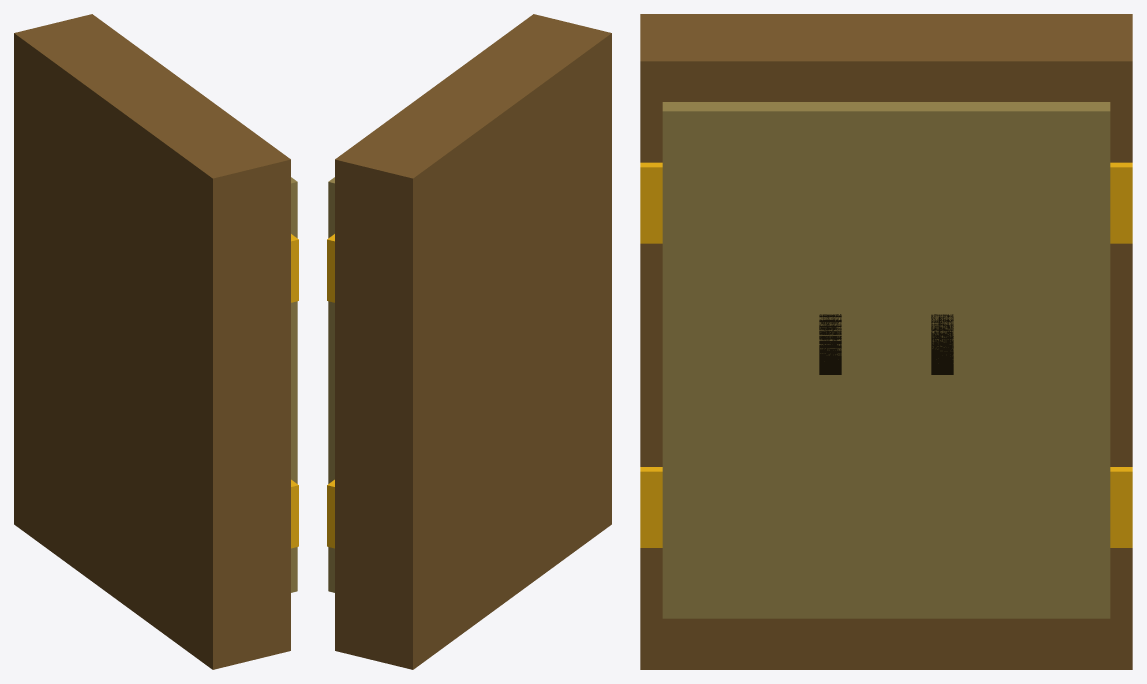
Rendered from obj_large_cupboard_0.obj.
3 renders of one model, left to right at view 1: azimuth 30°, elevation 25°; view 2: azimuth 150°, elevation 25°; view 3: azimuth 270°, elevation 25°, orthographic. The views are drawn at different scales.
Size of the model in its own units: 0.375 by 1.88 by 1.38.
